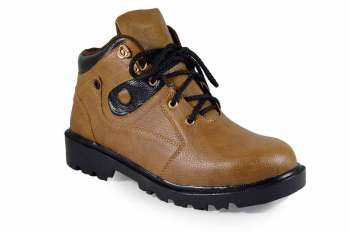Footwear: (62, 5, 310, 214)
